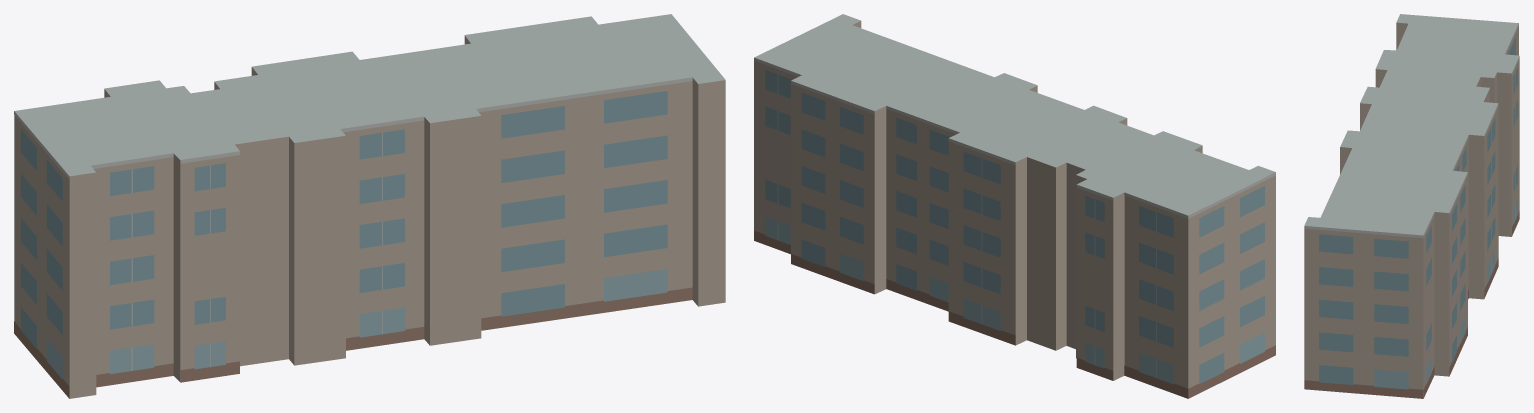
File: survey-upis-32975778.glb
3 views of the same model, side by side, from view 1: azimuth 30°, elevation 25°; view 2: azimuth 150°, elevation 25°; view 3: azimuth 270°, elevation 25° (orthographic). The views are drawn at different scales.
Parts seen in each view (by area): view 1: survey-upis-32975778.tmp; view 2: survey-upis-32975778.tmp; view 3: survey-upis-32975778.tmp.
Part boxes in pixels (x1=…): survey-upis-32975778.tmp: x1=14, y1=14, x2=725, y2=398; survey-upis-32975778.tmp: x1=754, y1=14, x2=1275, y2=398; survey-upis-32975778.tmp: x1=1304, y1=14, x2=1519, y2=398.
Bounding box in the file's own units: 41.85 × 14.4 × 17.21.
